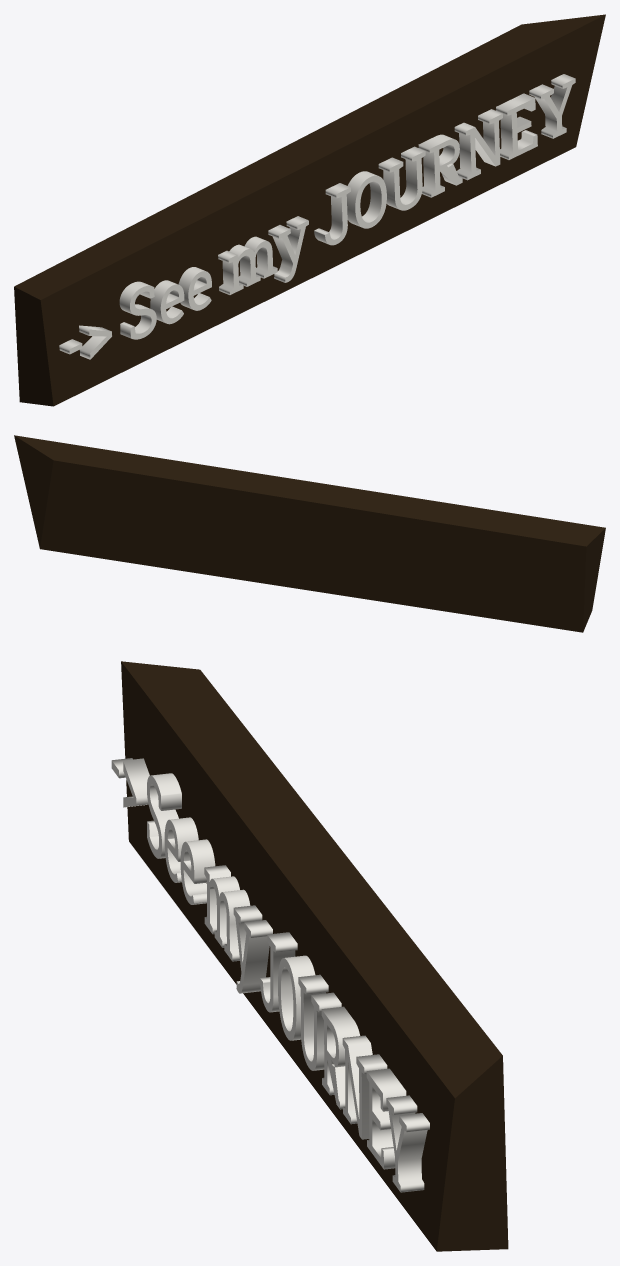
Rendered from firstchoice.glb.
The picture shows the model from 3 angles, top to bottom: view 1: azimuth 30°, elevation 25°; view 2: azimuth 150°, elevation 25°; view 3: azimuth 270°, elevation 25°; orthographic projection. The views are drawn at different scales.
Visible parts, largest first — view 1: Cube_Material.005_0.002, firstchoice; view 2: Cube_Material.005_0.002; view 3: Cube_Material.005_0.002, firstchoice.
Part boxes in pixels (box(x1,y1,x2,y2)): Cube_Material.005_0.002: box(14, 14, 605, 406); firstchoice: box(59, 74, 575, 359); Cube_Material.005_0.002: box(14, 435, 605, 632); Cube_Material.005_0.002: box(121, 661, 508, 1251); firstchoice: box(111, 758, 429, 1192).
Bounding box in the file's own units: 0.6584 × 0.15 × 0.2224.
